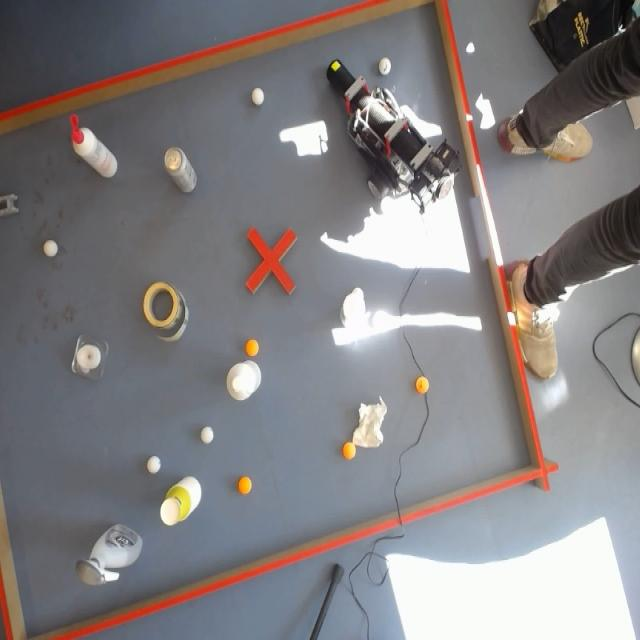orange: (236, 475, 252, 497), (415, 375, 430, 397), (244, 338, 260, 358), (342, 440, 356, 460)
robot: (326, 60, 460, 215)
robot-front: (329, 59, 342, 74)
white: (41, 239, 60, 261), (198, 424, 216, 447), (145, 454, 162, 477), (252, 88, 264, 105), (380, 58, 391, 75)
